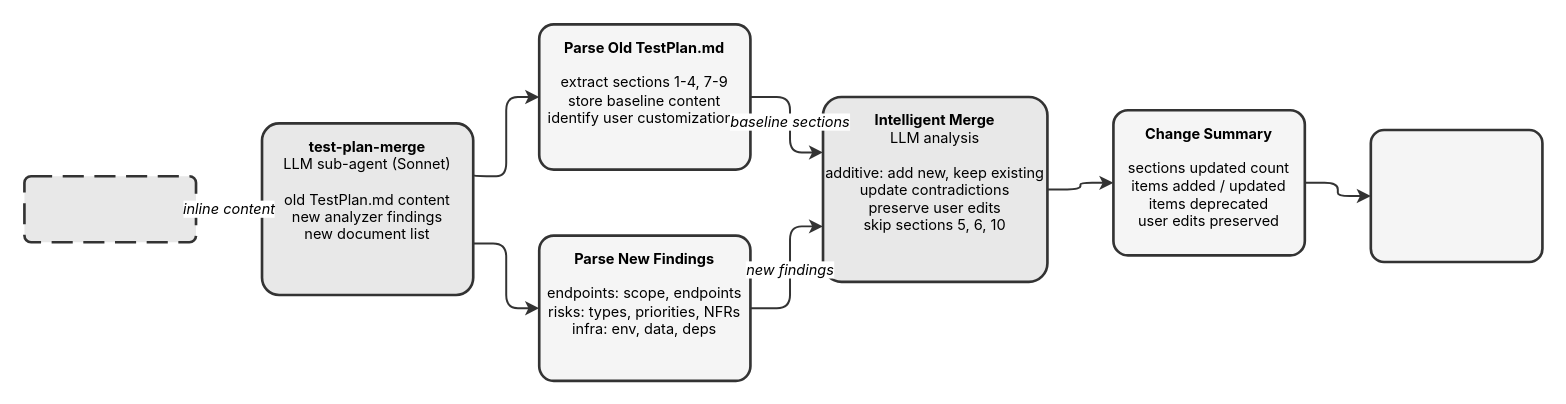
The diagram is 1566 pixels wide and 404 high, and some of its shapes have lost their labels. The shapes that lost their labels are listed below. From the top down, each one's centre as x and y in pixels, then its label:
At point 109,208: "/test-plan-update (orchestrator)".
At point 1456,195: "Structured Output updated section content change summary merge statistics".
